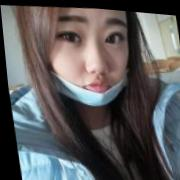WRONG: (38, 4, 138, 111)
